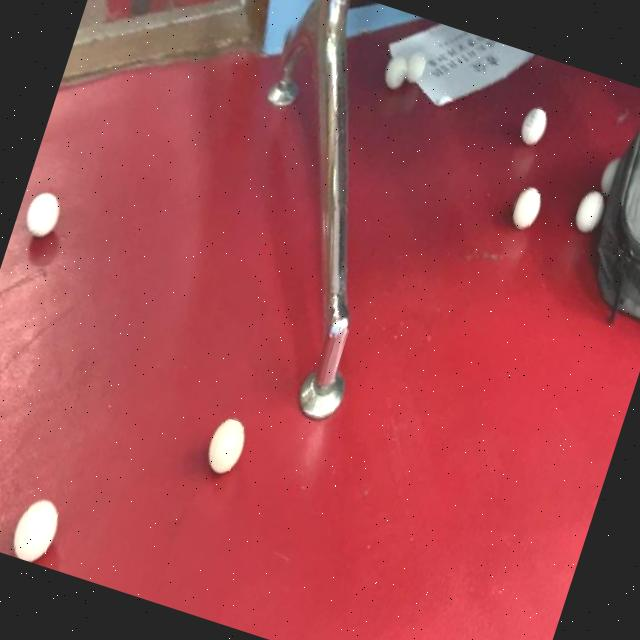ping-pong-ball: (4, 487, 68, 568), (198, 408, 255, 482), (17, 181, 69, 248), (567, 182, 612, 242), (504, 180, 548, 237), (513, 97, 555, 154), (377, 47, 415, 97), (400, 44, 432, 90)
